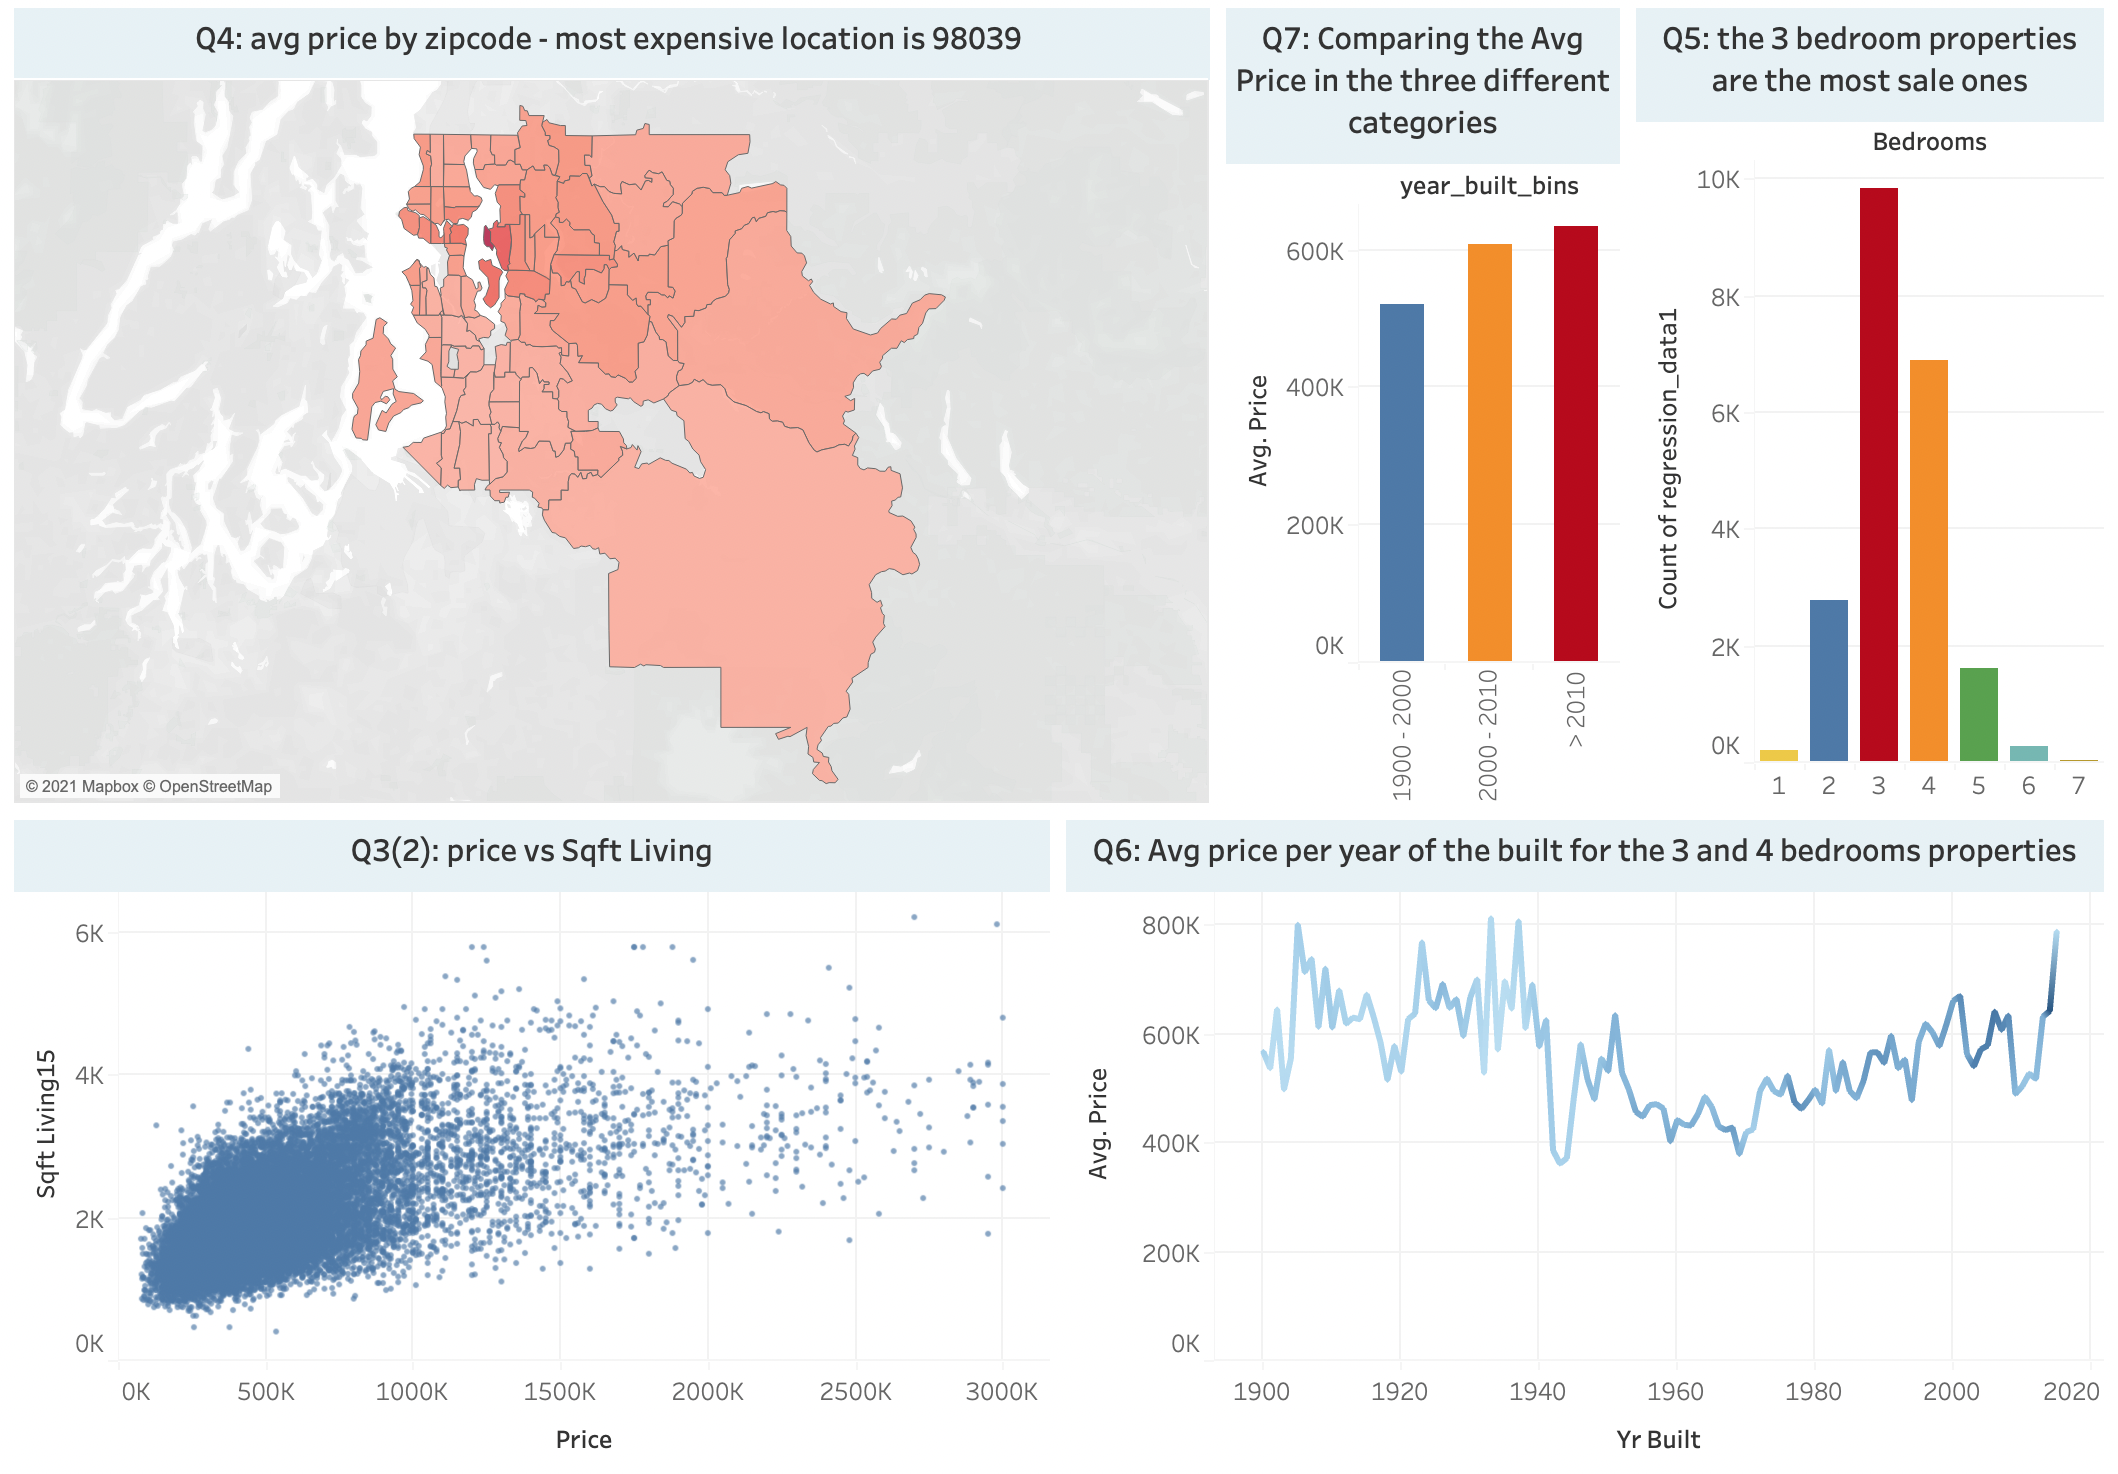

This screenshot's page, from the dashboard's own definition file:
{"tool":"tableau","page":{"name":"Dashboard 1","canvas":[1000,1000],"units":"permille","ordinal":0},"visuals":[{"type":"worksheet","title":"Q4","mark":"Automatic","box":[6.5,10.6,493,537.7]},{"type":"worksheet","title":"Q7","mark":"Automatic","rows":["price"],"cols":["Calculation_48906316776304640"],"box":[499.5,10.6,166.8,537.7]},{"type":"worksheet","title":"Q5","mark":"Automatic","rows":["regression!data1_20426A915840482E9E87D2381BC5CC0B"],"cols":["Bedrooms (copy)_424042091737821184"],"box":[666.4,10.6,196.9,537.7]},{"type":"legend","title":"Q4","param":"[federated.05ej75100jirhy1d02z7w07jw8va].[avg:price:qk]","box":[863.3,10.6,130.2,86.1]},{"type":"filter","title":"Q5","param":"[federated.05ej75100jirhy1d02z7w07jw8va].[none:Bedrooms (copy)_42404209173782118","box":[863.3,96.7,130.2,279.5]},{"type":"legend","title":"Q5","param":"[federated.05ej75100jirhy1d02z7w07jw8va].[none:Bedrooms (copy)_42404209173782118","box":[863.3,376.2,130.2,219.9]},{"type":"worksheet","title":"Q3(2)","mark":"Automatic","rows":["sqft_living15"],"cols":["price"],"box":[6.5,548.3,428.4,441.1]},{"type":"worksheet","title":"Q6","mark":"Automatic","rows":["price"],"cols":["yr_built"],"box":[434.9,548.3,428.4,441.1]},{"type":"filter","title":"Q6","param":"[federated.05ej75100jirhy1d02z7w07jw8va].[none:Bedrooms (copy)_42404209173782118","box":[863.3,596,130.2,279.5]},{"type":"legend","title":"Q7","param":"[federated.05ej75100jirhy1d02z7w07jw8va].[none:Calculation_48906316776304640:nk]","box":[863.3,875.5,130.2,113.9]}]}

Visuals, with their boxes on the dashboard's canvas, which has no fixed pixel size, in thousandths of its width and height (x1, y1, x2, y2). These are canvas units, not pixel positions in the 2118x1474 screenshot, which may show the page scaled, cropped or inside an application window:
"Q4" worksheet: bbox=(6, 11, 500, 548)
"Q7" worksheet: bbox=(500, 11, 666, 548)
"Q5" worksheet: bbox=(666, 11, 863, 548)
"Q4" legend: bbox=(863, 11, 994, 97)
"Q5" filter: bbox=(863, 97, 994, 376)
"Q5" legend: bbox=(863, 376, 994, 596)
"Q3(2)" worksheet: bbox=(6, 548, 435, 989)
"Q6" worksheet: bbox=(435, 548, 863, 989)
"Q6" filter: bbox=(863, 596, 994, 876)
"Q7" legend: bbox=(863, 876, 994, 989)
